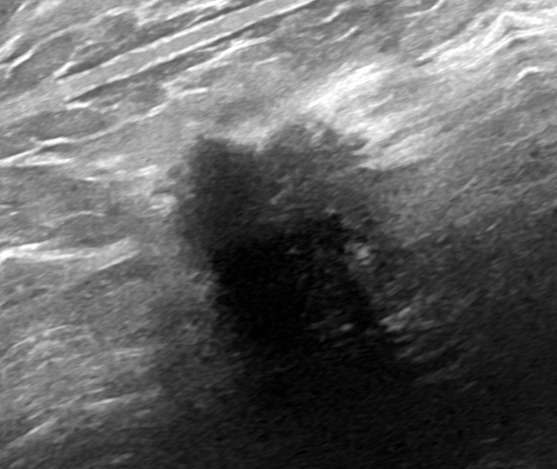Malignant: (181, 120, 375, 338)
